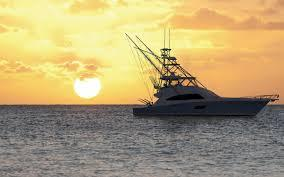fishing boat: (119, 25, 281, 117)
